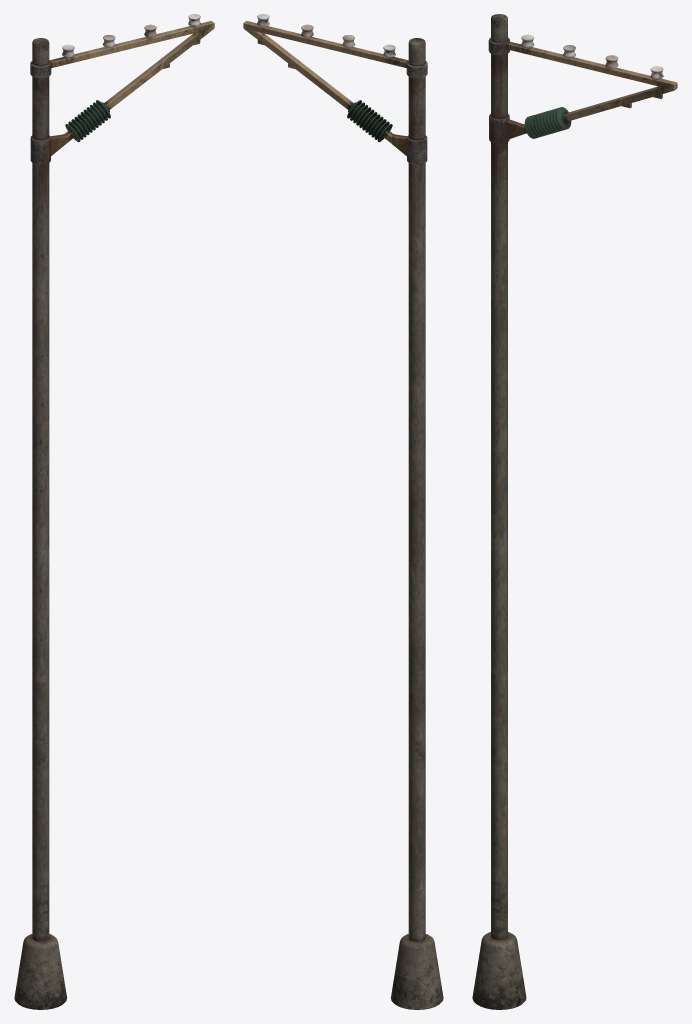
Rendered from pole_concrete.glb.
3 renders of one model, left to right at view 1: azimuth 30°, elevation 25°; view 2: azimuth 150°, elevation 25°; view 3: azimuth 330°, elevation 25°, orthographic. The views are drawn at different scales.
Visible parts, largest first — view 1: pole_concrete; view 2: pole_concrete; view 3: pole_concrete.
Part boxes in pixels (x1=…): pole_concrete: x1=14, y1=14, x2=214, y2=1009; pole_concrete: x1=243, y1=14, x2=443, y2=1009; pole_concrete: x1=472, y1=14, x2=677, y2=1009.
Size of the model in its own units: 1.92 by 9 by 0.4496.
1 material, 1 textured.
